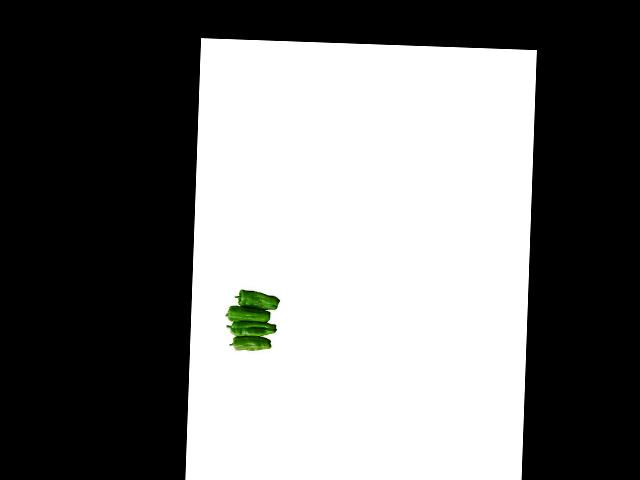bell_pepper: (232, 289, 283, 310)
